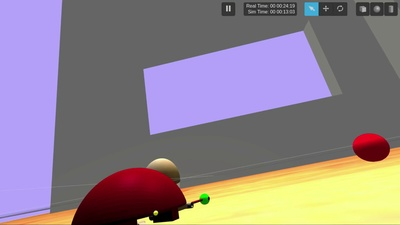mira_robot: (147, 158, 181, 189)
